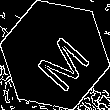M_NW: (22, 21, 88, 89)
